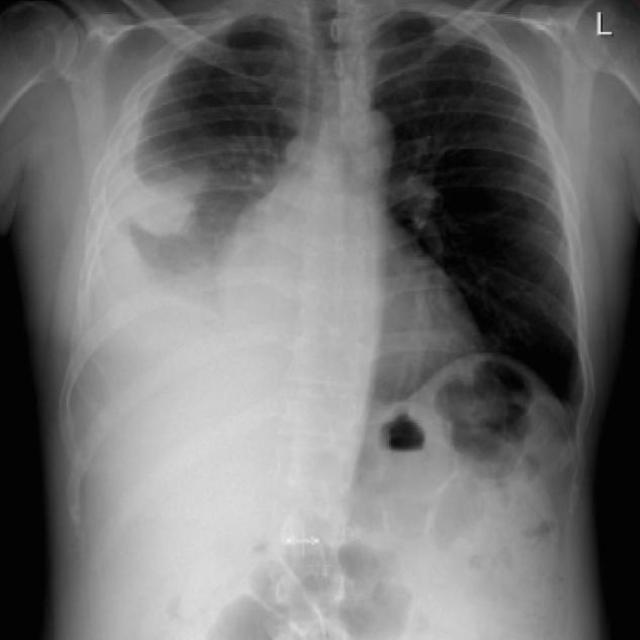pathological: (500, 6, 617, 84)
